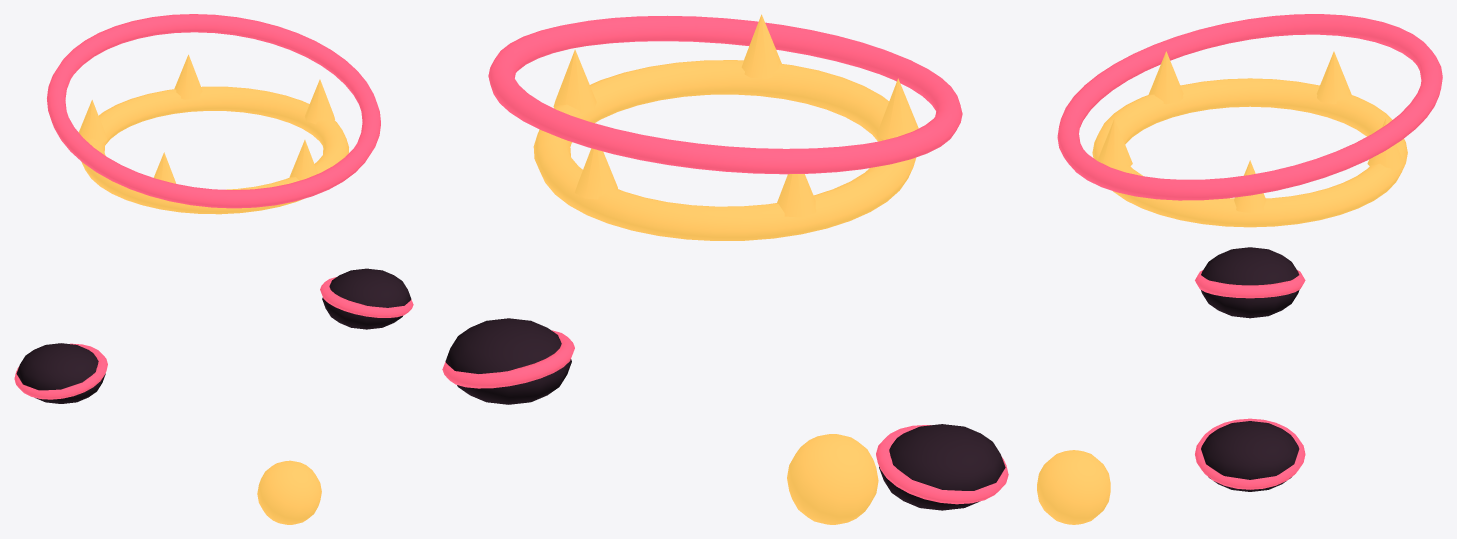
Rendered from avatar-brasa-kit-boss-final.glb.
3 renders of one model, left to right at view 1: azimuth 30°, elevation 25°; view 2: azimuth 150°, elevation 25°; view 3: azimuth 270°, elevation 25°, orthographic. The views are drawn at different scales.
Visible parts, largest first — view 1: kit_brasa_boss-final_halo, kit_brasa_boss-final_crownRing, kit_brasa_boss-final_heroCapR, kit_brasa_boss-final_heroCapL, kit_brasa_boss-final_core, kit_brasa_boss-final_capRimR, kit_brasa_boss-final_capRimL, kit_brasa_boss-final_crownSpike4, kit_brasa_boss-final_crownSpike0, kit_brasa_boss-final_crownSpike3, kit_brasa_boss-final_crownSpike1; view 2: kit_brasa_boss-final_halo, kit_brasa_boss-final_crownRing, kit_brasa_boss-final_heroCapR, kit_brasa_boss-final_heroCapL, kit_brasa_boss-final_core, kit_brasa_boss-final_capRimR, kit_brasa_boss-final_capRimL, kit_brasa_boss-final_crownSpike1, kit_brasa_boss-final_crownSpike0, kit_brasa_boss-final_crownSpike4, kit_brasa_boss-final_crownSpike2, kit_brasa_boss-final_crownSpike3; view 3: kit_brasa_boss-final_halo, kit_brasa_boss-final_crownRing, kit_brasa_boss-final_heroCapL, kit_brasa_boss-final_core, kit_brasa_boss-final_heroCapR, kit_brasa_boss-final_capRimL, kit_brasa_boss-final_capRimR, kit_brasa_boss-final_crownSpike2, kit_brasa_boss-final_crownSpike3, kit_brasa_boss-final_crownSpike1, kit_brasa_boss-final_crownSpike0, kit_brasa_boss-final_crownSpike4.
Part boxes in pixels (box(x1,y1,x2,y2)): kit_brasa_boss-final_halo: box(47, 14, 380, 208); kit_brasa_boss-final_crownRing: box(81, 86, 348, 214); kit_brasa_boss-final_heroCapR: box(16, 343, 105, 403); kit_brasa_boss-final_heroCapL: box(322, 268, 411, 329); kit_brasa_boss-final_core: box(257, 460, 321, 524); kit_brasa_boss-final_capRimR: box(14, 343, 107, 399); kit_brasa_boss-final_capRimL: box(320, 277, 413, 317); kit_brasa_boss-final_crownSpike4: box(174, 54, 202, 99); kit_brasa_boss-final_crownSpike0: box(304, 79, 334, 124); kit_brasa_boss-final_crownSpike3: box(78, 100, 107, 142); kit_brasa_boss-final_crownSpike1: box(289, 140, 317, 180); kit_brasa_boss-final_halo: box(488, 15, 962, 174); kit_brasa_boss-final_crownRing: box(533, 60, 916, 240); kit_brasa_boss-final_heroCapR: box(879, 424, 1005, 510); kit_brasa_boss-final_heroCapL: box(445, 318, 571, 404); kit_brasa_boss-final_core: box(787, 434, 878, 524); kit_brasa_boss-final_capRimR: box(876, 425, 1008, 504); kit_brasa_boss-final_capRimL: box(442, 330, 574, 388); kit_brasa_boss-final_crownSpike1: box(741, 14, 781, 78); kit_brasa_boss-final_crownSpike0: box(553, 49, 596, 113); kit_brasa_boss-final_crownSpike4: box(575, 148, 617, 199); kit_brasa_boss-final_crownSpike2: box(876, 78, 918, 140); kit_brasa_boss-final_crownSpike3: box(777, 174, 816, 217); kit_brasa_boss-final_halo: box(1057, 14, 1442, 200); kit_brasa_boss-final_crownRing: box(1092, 78, 1407, 227); kit_brasa_boss-final_heroCapL: box(1201, 421, 1299, 491); kit_brasa_boss-final_core: box(1037, 450, 1110, 524); kit_brasa_boss-final_heroCapR: box(1201, 247, 1299, 318); kit_brasa_boss-final_capRimL: box(1195, 418, 1305, 489); kit_brasa_boss-final_capRimR: box(1195, 270, 1305, 298); kit_brasa_boss-final_crownSpike2: box(1148, 51, 1183, 104); kit_brasa_boss-final_crownSpike3: box(1316, 51, 1351, 104); kit_brasa_boss-final_crownSpike1: box(1097, 118, 1132, 167); kit_brasa_boss-final_crownSpike0: box(1234, 160, 1266, 213); kit_brasa_boss-final_crownSpike4: box(1367, 118, 1403, 170).
Size of the model in its own units: 0.6194 by 0.595 by 0.4835.
